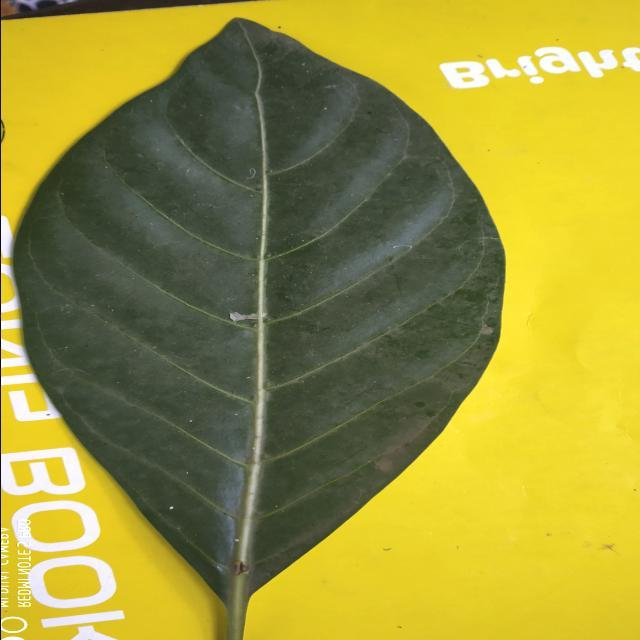leaf: (11, 16, 506, 638)
